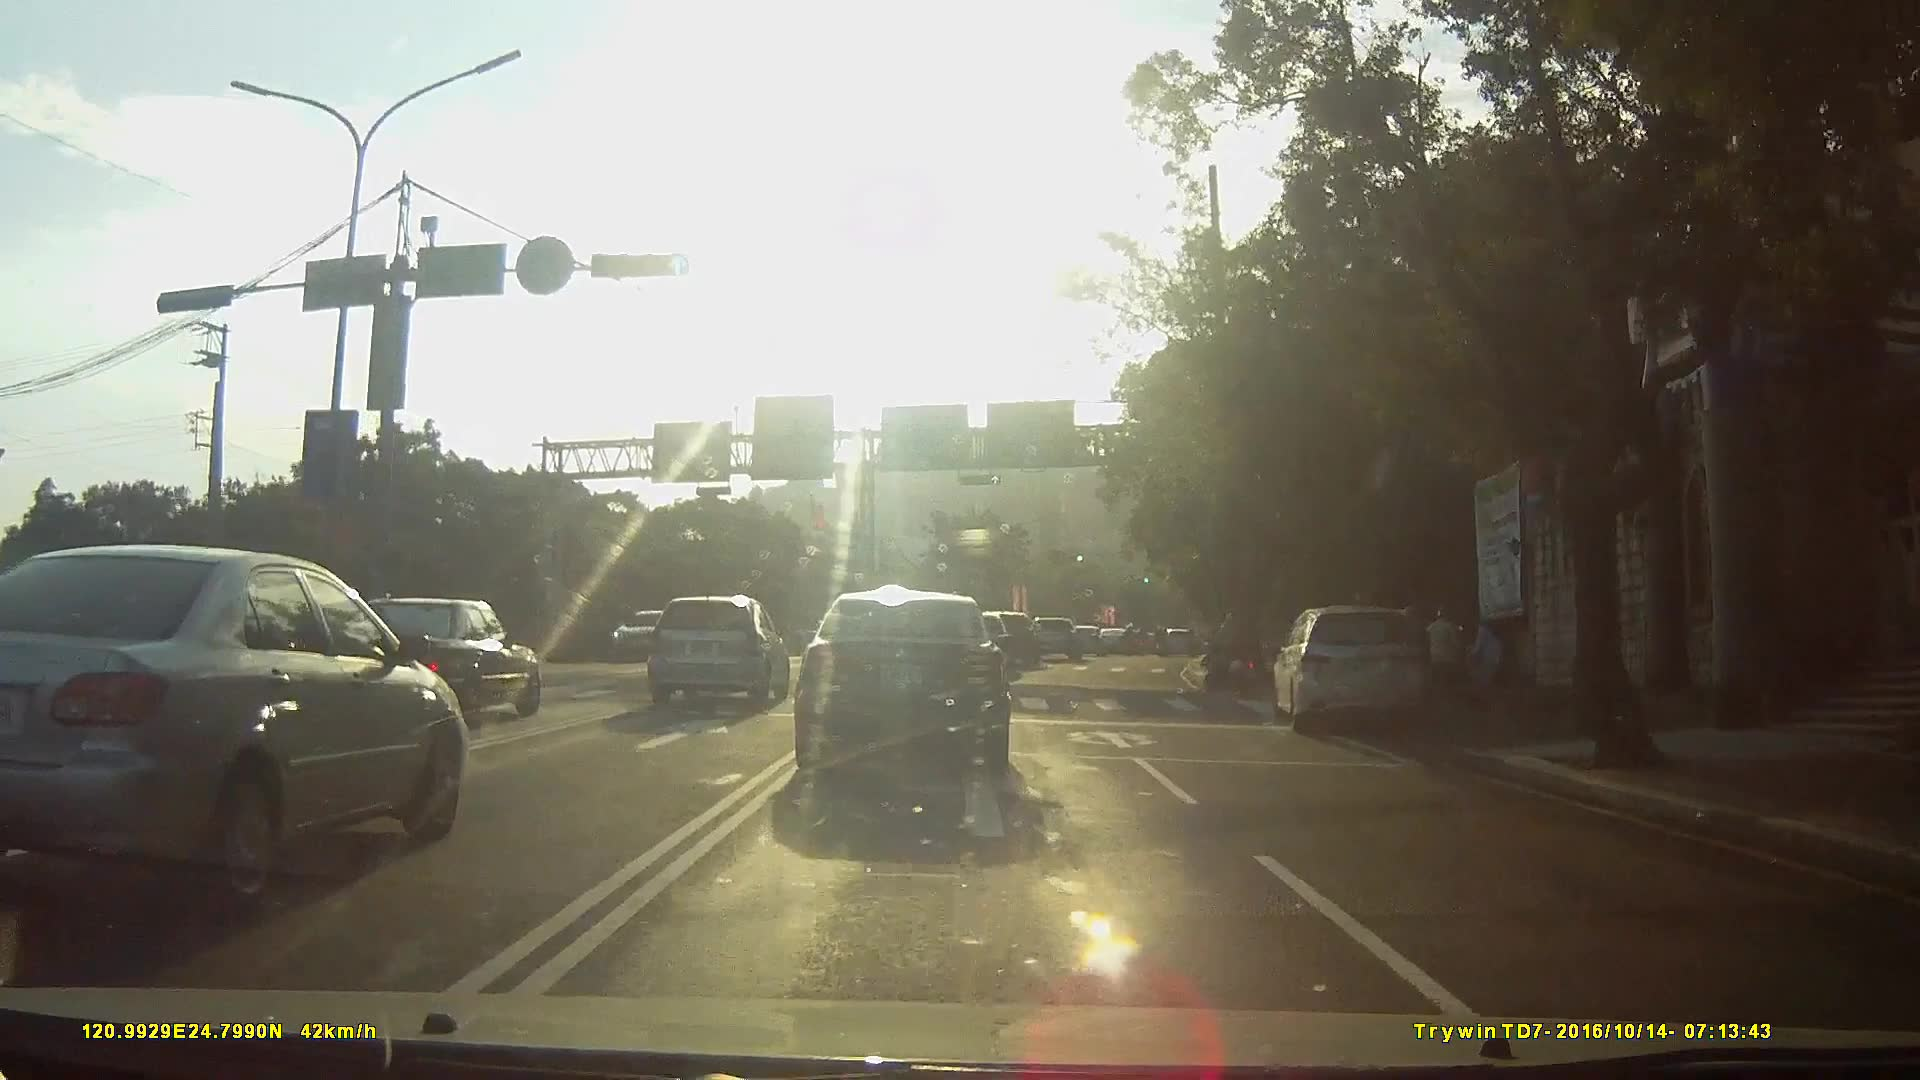pedestrian: (1431, 606, 1471, 724), (1473, 620, 1510, 690)
rider: (1207, 607, 1265, 692)
vehicle: (0, 547, 474, 915), (791, 591, 1033, 799), (333, 596, 551, 728), (1270, 600, 1451, 739), (648, 595, 795, 716), (608, 606, 685, 664), (988, 609, 1050, 667), (1032, 616, 1090, 662), (1072, 624, 1111, 656), (1103, 626, 1135, 654)
